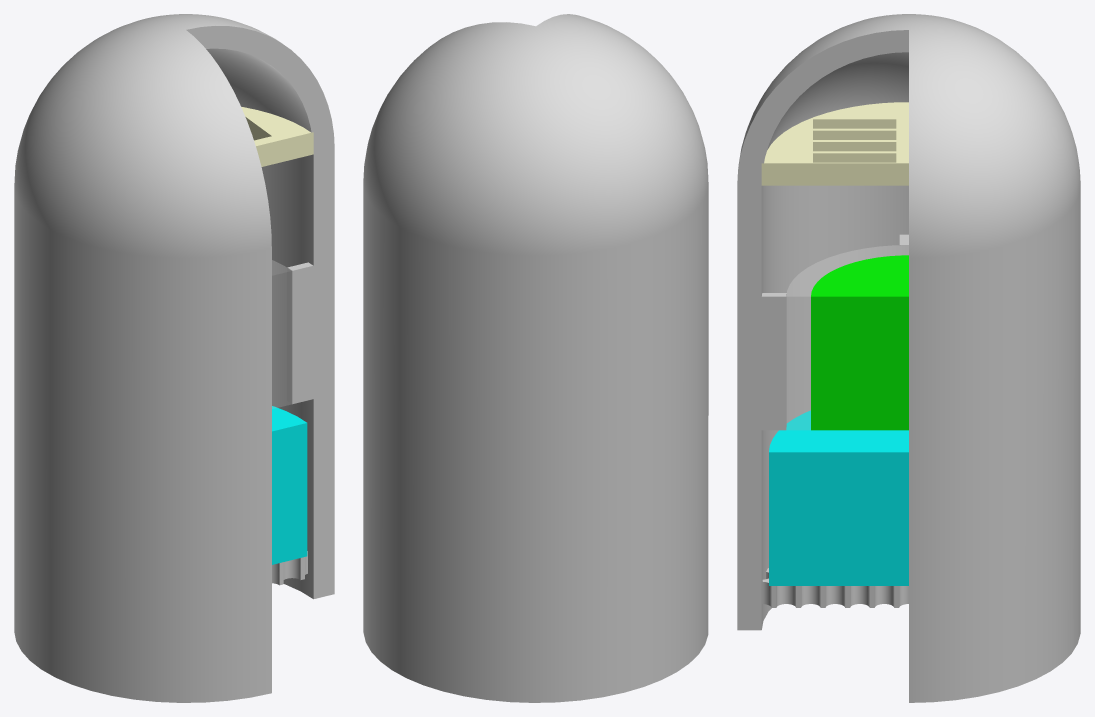
Rendered from filter_cut.glb.
The picture shows the model from 3 angles, left to right: view 1: azimuth 30°, elevation 25°; view 2: azimuth 150°, elevation 25°; view 3: azimuth 270°, elevation 25°; orthographic projection.
Visible parts, largest first — view 1: filter; view 2: filter; view 3: filter.
Part boxes in pixels (bbox=[...]): filter: bbox=[14, 14, 334, 702]; filter: bbox=[363, 14, 708, 702]; filter: bbox=[737, 14, 1080, 702].
Size of the model in its own units: 0.14 by 0.27 by 0.14.
